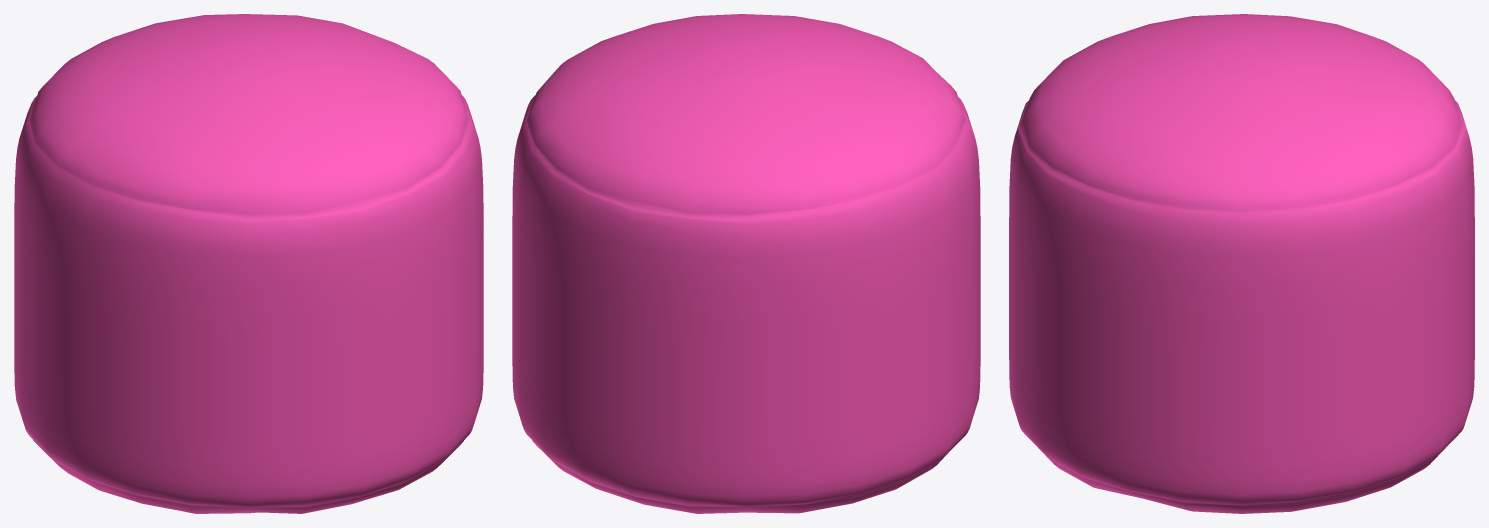
The model's file is roundobstacle_lowpoly.fbx.
3 views of the same model, side by side, from view 1: azimuth 30°, elevation 25°; view 2: azimuth 150°, elevation 25°; view 3: azimuth 270°, elevation 25° (orthographic).
Visible parts, largest first — view 1: round_sculpted.009; view 2: round_sculpted.009; view 3: round_sculpted.009.
Boxes of the visible parts, bbox=[...] form: round_sculpted.009: bbox=[14, 14, 483, 513]; round_sculpted.009: bbox=[512, 14, 980, 513]; round_sculpted.009: bbox=[1009, 14, 1474, 513].
Bounding box in the file's own units: 315 × 286 × 315.
